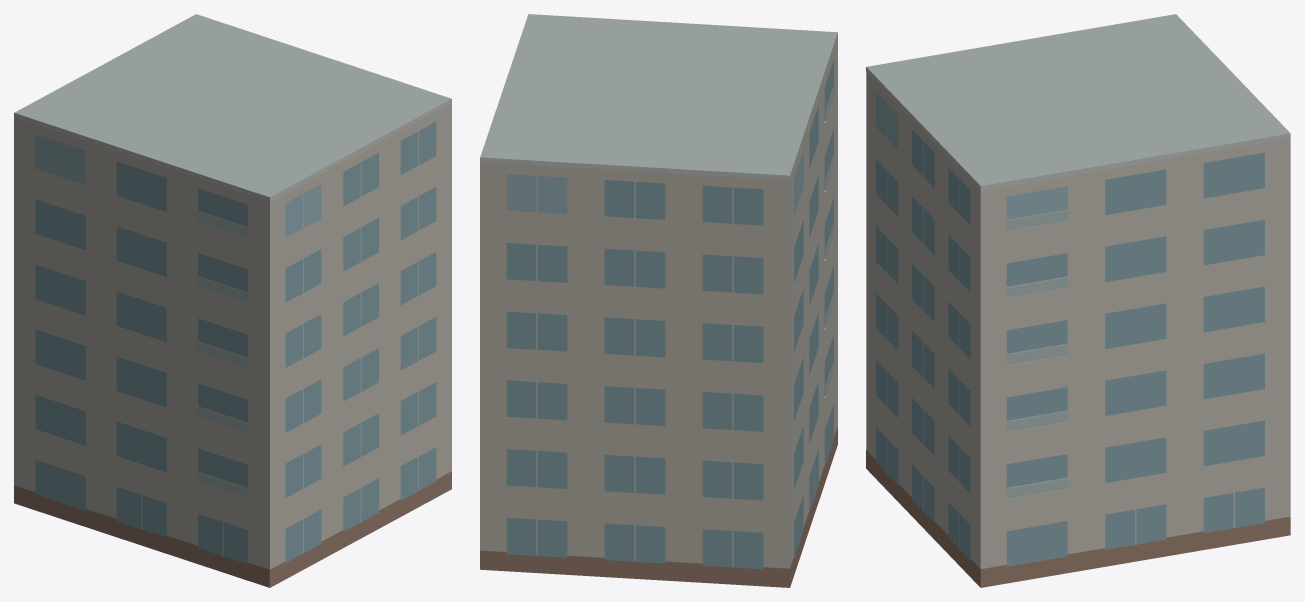
File: survey-upis-32849653.glb
The picture shows the model from 3 angles, left to right: view 1: azimuth 30°, elevation 25°; view 2: azimuth 150°, elevation 25°; view 3: azimuth 270°, elevation 25°; orthographic projection. The views are drawn at different scales.
Visible parts, largest first — view 1: survey-upis-32849653.tmp; view 2: survey-upis-32849653.tmp; view 3: survey-upis-32849653.tmp.
Part boxes in pixels (x1=…): survey-upis-32849653.tmp: x1=14, y1=14, x2=451, y2=587; survey-upis-32849653.tmp: x1=480, y1=14, x2=837, y2=587; survey-upis-32849653.tmp: x1=866, y1=14, x2=1290, y2=587.
Bounding box in the file's own units: 18.38 × 20 × 19.16.
